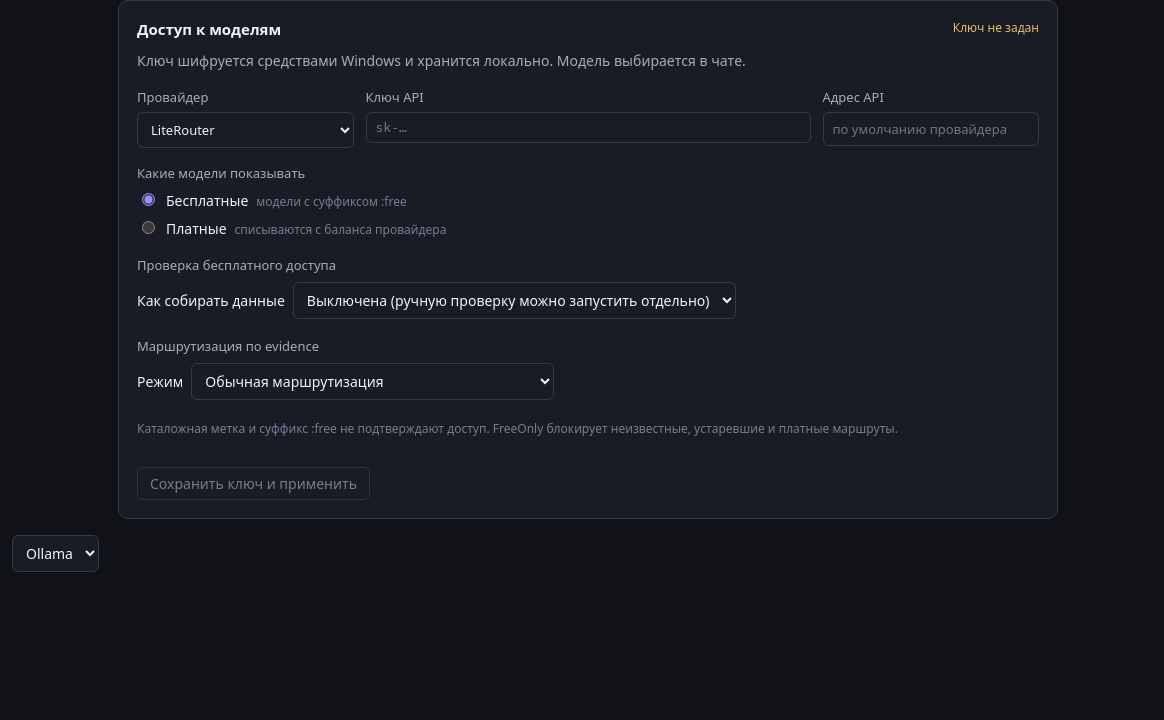
Test: shared provider state › updates the chat provider list immediately after settings save
Type "lr-test-key" into the password field labelled "Ключ API". click: (588, 128)
box: [366,112,810,143]
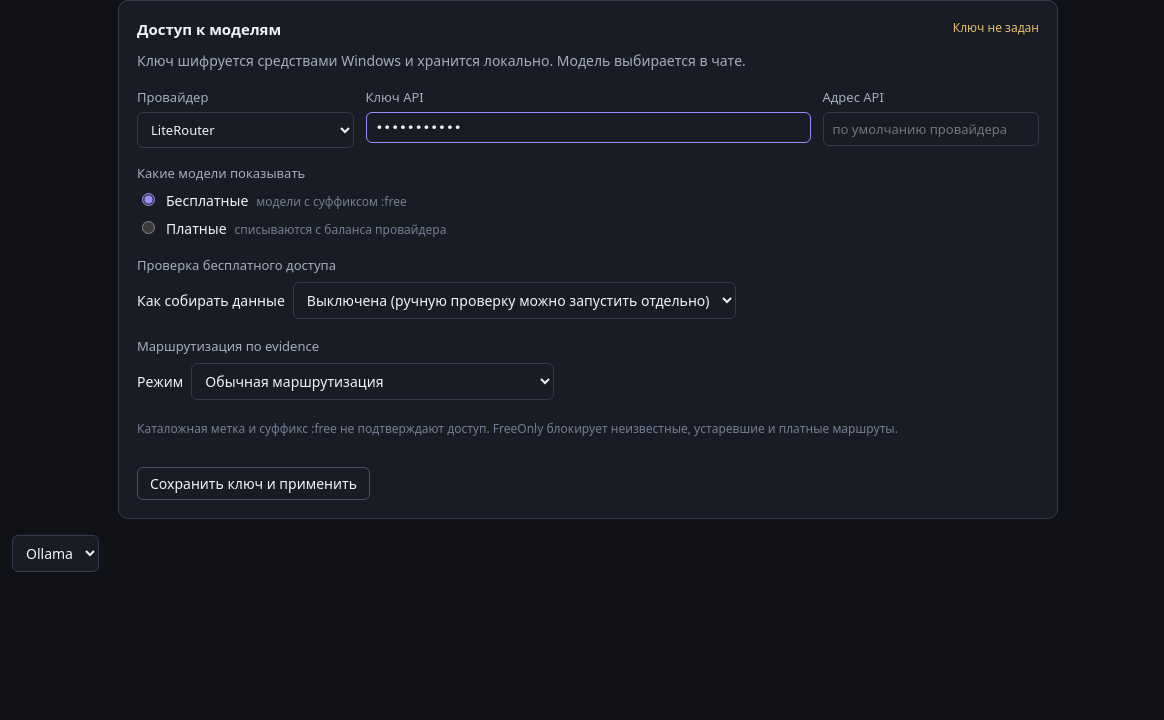
Click the button "Сохранить ключ и применить". click: (254, 484)
box: [137,467,370,500]
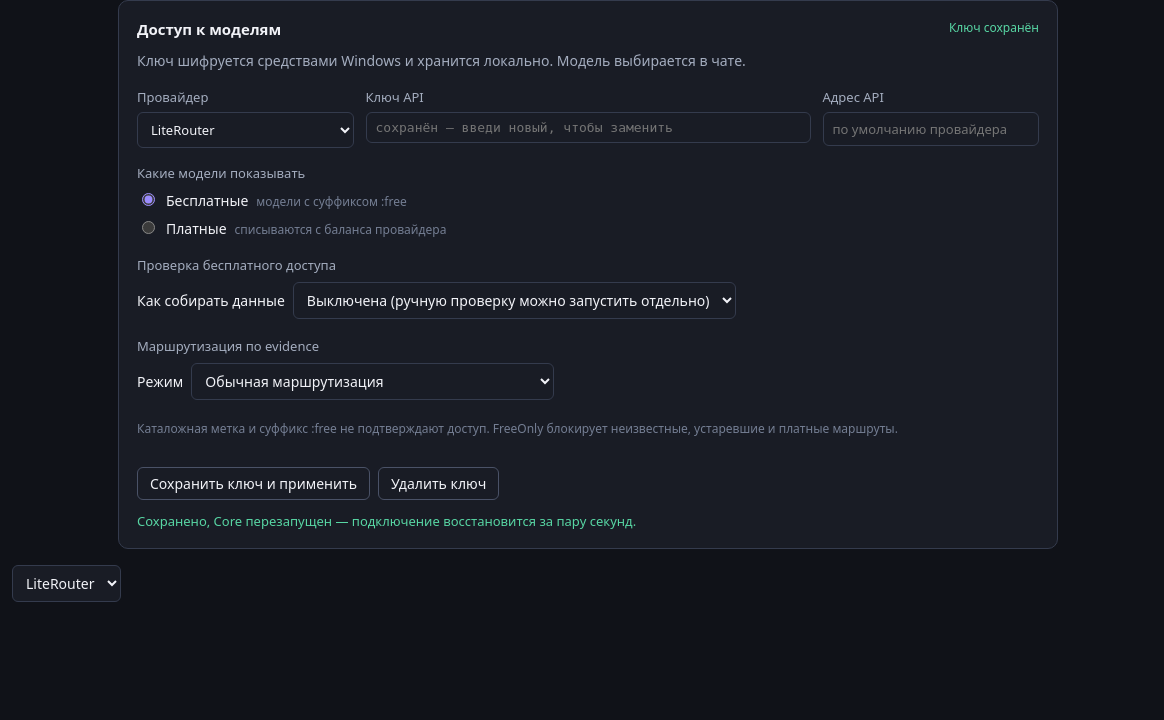
Check: the dropdown named "Провайдер задачи" shows "LiteRouter", box [12,565,121,602]
